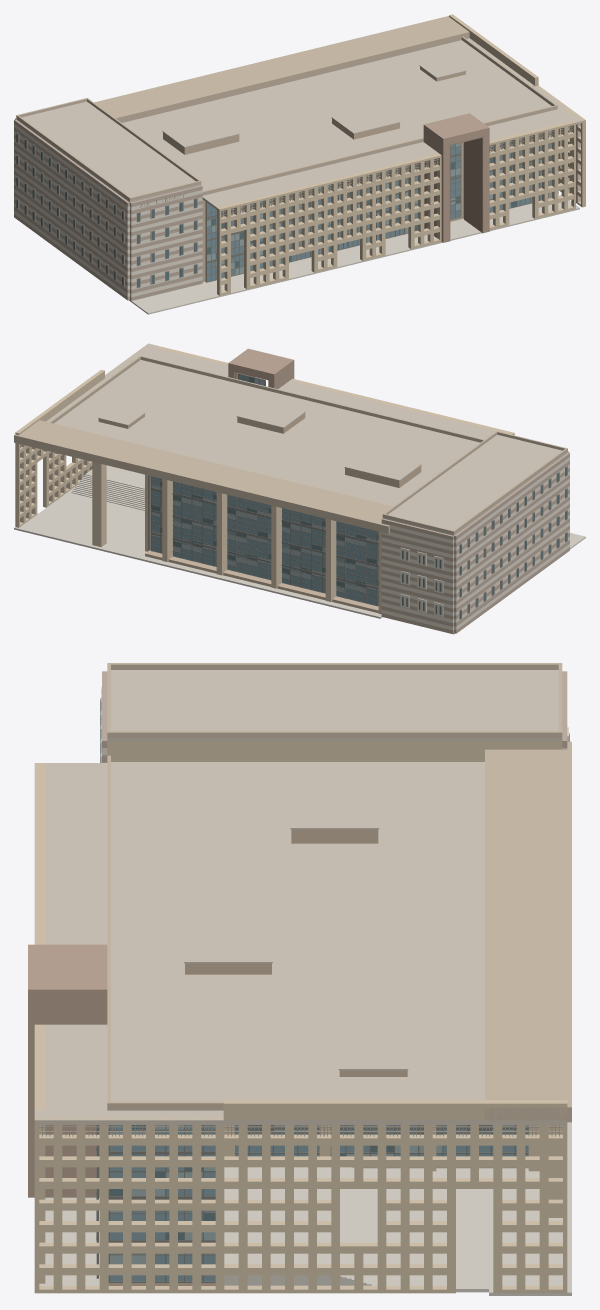
Rendered from auc-library.glb.
The picture shows the model from 3 angles, top to bottom: view 1: azimuth 30°, elevation 25°; view 2: azimuth 150°, elevation 25°; view 3: azimuth 270°, elevation 25°; orthographic projection. The views are drawn at different scales.
Parts seen in each view (by area): view 1: roof, sandstone, roof_trim, brown_band, cream_band, portal_stone, paving, glass_blue, mullions, glass_dark, portal_inner, sandstone_dark (+2 smaller); view 2: roof, roof_trim, sandstone, brown_band, cream_band, glass_blue, paving, mullions, glass_dark, portal_stone, sandstone_dark, glass_light; view 3: roof, sandstone, roof_trim, paving, portal_stone, glass_blue, mullions, sandstone_dark, lattice_metal, glass_light, brown_band, glass_dark.
Boxes of the visible parts, box(x1,y1,x2,y2) form: roof: box(16, 38, 585, 209); sandstone: box(129, 14, 585, 300); roof_trim: box(16, 16, 557, 200); brown_band: box(14, 118, 202, 300); cream_band: box(14, 124, 202, 297); portal_stone: box(16, 113, 489, 287); paving: box(130, 195, 579, 314); glass_blue: box(207, 133, 551, 281); mullions: box(205, 133, 558, 282); glass_dark: box(16, 133, 551, 287); portal_inner: box(443, 131, 489, 240); sandstone_dark: box(163, 66, 465, 282); roof: box(21, 343, 567, 535); roof_trim: box(14, 355, 567, 533); sandstone: box(15, 344, 514, 634); brown_band: box(381, 451, 569, 633); cream_band: box(381, 457, 569, 630); glass_blue: box(151, 374, 378, 605); paving: box(14, 465, 585, 618); mullions: box(148, 373, 378, 606); glass_dark: box(151, 377, 567, 619); portal_stone: box(228, 348, 567, 619); sandstone_dark: box(98, 413, 421, 613); glass_light: box(151, 378, 378, 592); roof: box(34, 670, 567, 1124); sandstone: box(34, 741, 567, 1293); roof_trim: box(107, 663, 571, 1122); paving: box(39, 1122, 571, 1295); portal_stone: box(28, 697, 107, 1197); glass_blue: box(110, 1125, 528, 1281); mullions: box(96, 1125, 528, 1282); sandstone_dark: box(108, 829, 528, 1285); lattice_metal: box(39, 1125, 562, 1136); glass_light: box(110, 1125, 528, 1264); brown_band: box(102, 671, 567, 762); glass_dark: box(100, 698, 569, 1253).
Bounding box in the file's own units: 105 × 24 × 56.21.
